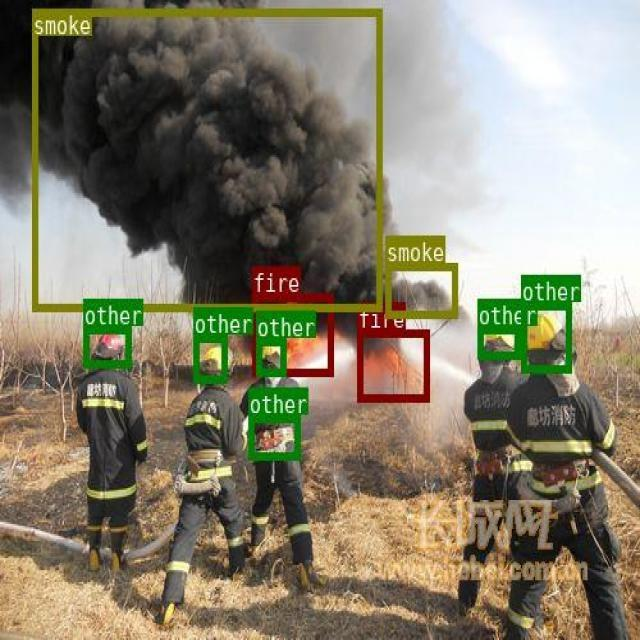fire: (252, 292, 332, 375), (357, 328, 429, 401)
smoke: (32, 7, 381, 310), (385, 262, 456, 318)
